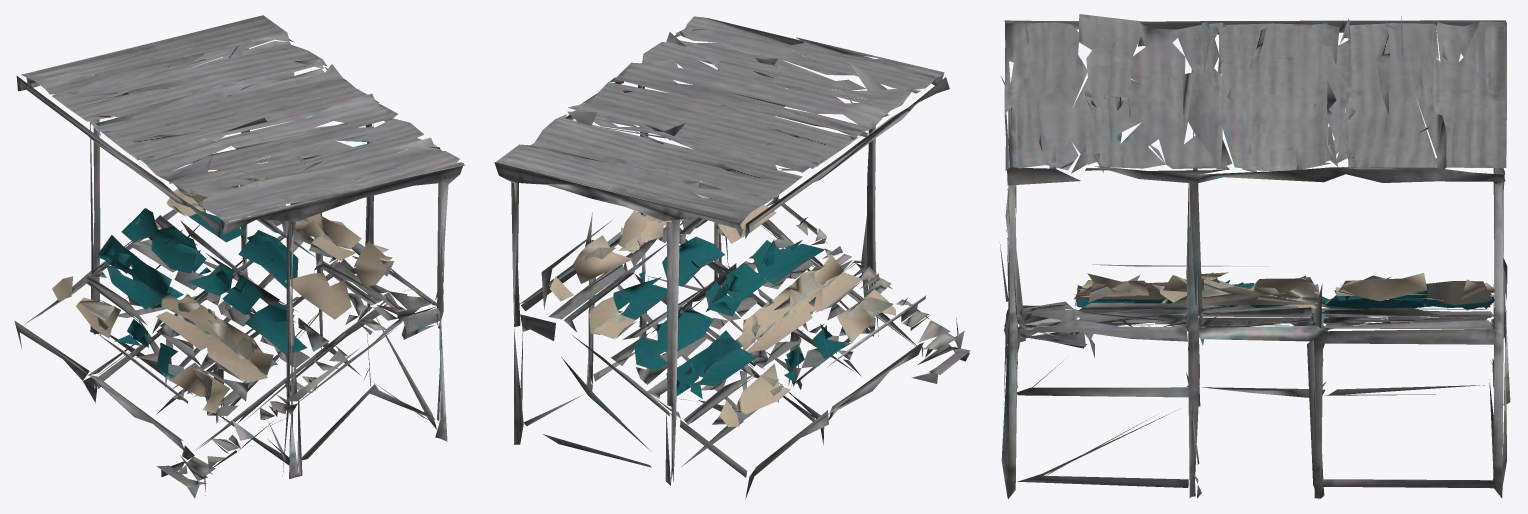
File: kueste_tribuene_lo.glb
The picture shows the model from 3 angles, left to right: view 1: azimuth 30°, elevation 25°; view 2: azimuth 150°, elevation 25°; view 3: azimuth 270°, elevation 25°; orthographic projection. The views are drawn at different scales.
Parts seen in each view (by area): view 1: Prop; view 2: Prop; view 3: Prop.
Boxes of the visible parts, x1,y1,x2,y2 form: Prop: (14,15,465,498); Prop: (494,16,970,499); Prop: (999,14,1510,499).
Size of the model in its own units: 1.05 by 1.06 by 1.36.
Materials: 1 (1 with a texture image).
